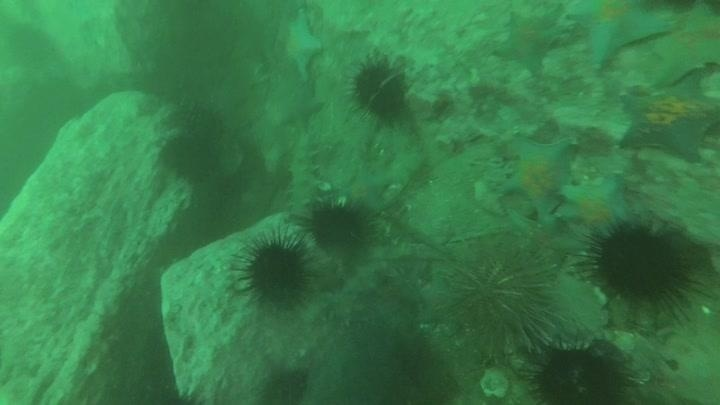echinus: (442, 243, 559, 356), (583, 219, 698, 314), (324, 326, 457, 403), (526, 339, 633, 404), (236, 233, 314, 309), (347, 55, 412, 124), (303, 198, 374, 253), (160, 131, 223, 183), (170, 101, 226, 143), (5, 23, 56, 69), (258, 364, 312, 404)
holothurian: (282, 131, 324, 222)
starfish: (616, 73, 719, 163), (563, 1, 677, 69), (498, 135, 578, 221), (644, 3, 719, 89), (499, 209, 584, 268), (557, 174, 632, 238), (491, 11, 566, 72), (276, 13, 325, 80), (414, 271, 468, 327), (267, 81, 325, 130), (339, 167, 394, 214)
